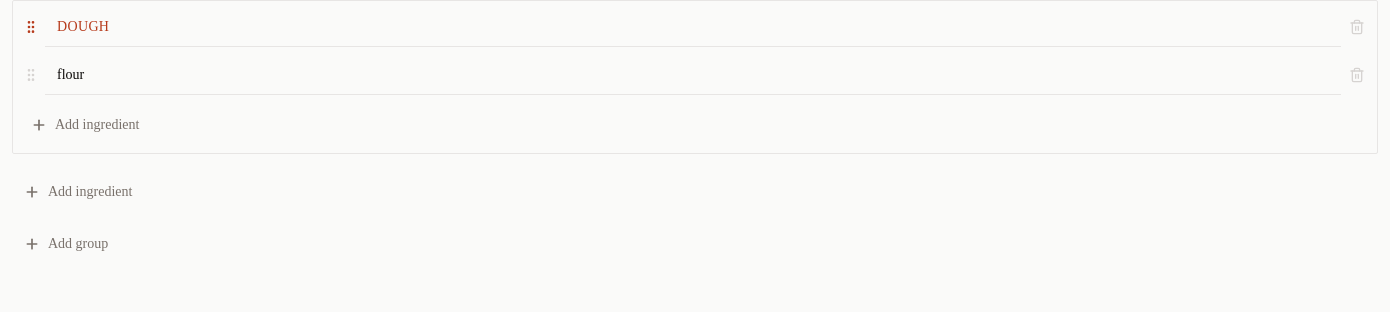
IngredientsEditor › adds an ingredient to the bottom of a specific group
Click the 1st button "Add ingredient": click(97, 124) [19, 103, 1371, 147]
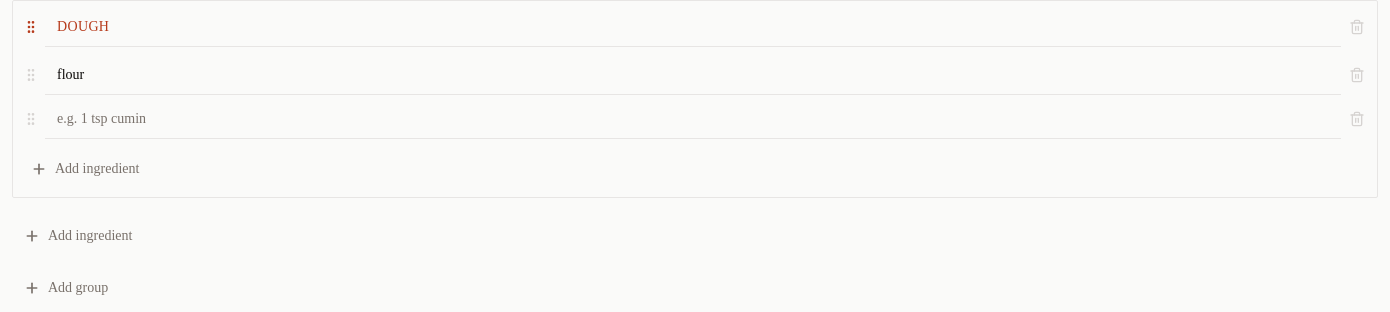
Now the number of fields named "Ingredient" is 2, box [45, 55, 1341, 95]; [45, 99, 1341, 139]
